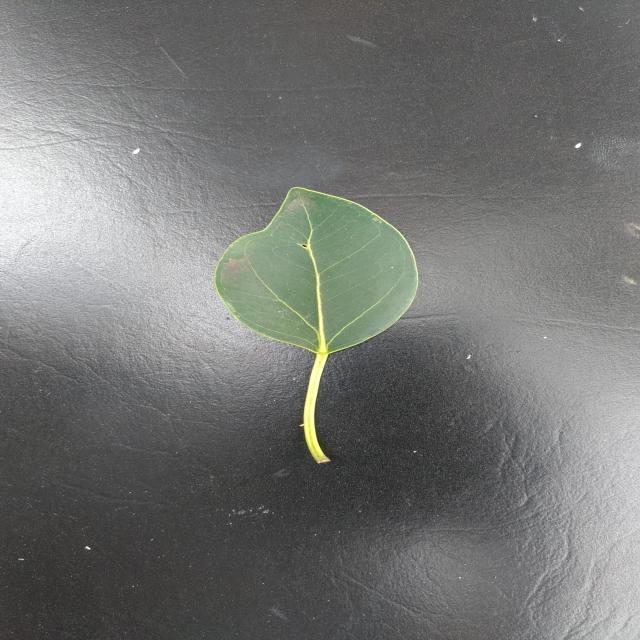camphor: (216, 188, 418, 462)
